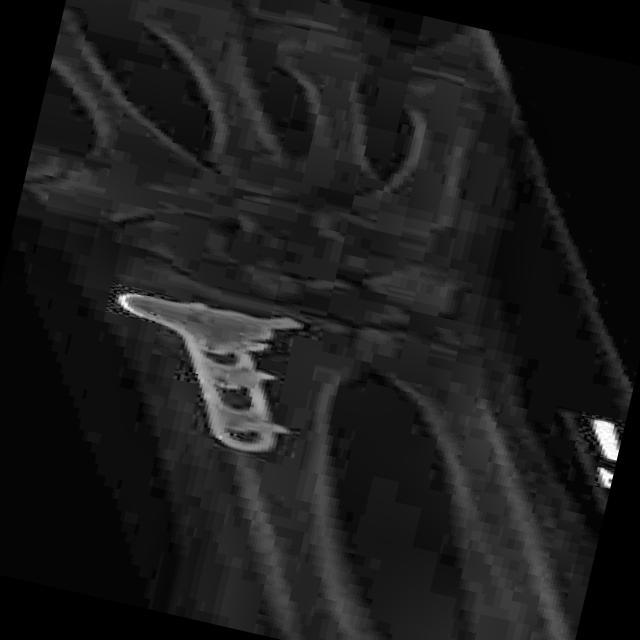wrist positive: (242, 311, 431, 388)
